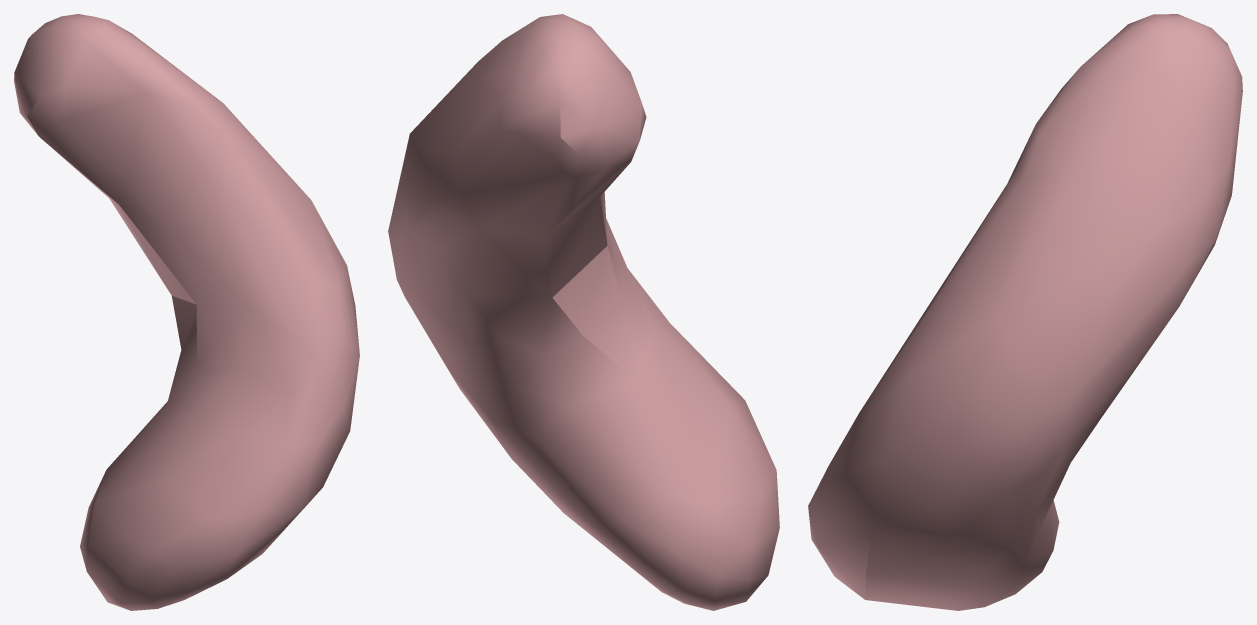
Rendered from fma14966_fj2599.glb.
3 renders of one model, left to right at view 1: azimuth 30°, elevation 25°; view 2: azimuth 150°, elevation 25°; view 3: azimuth 270°, elevation 25°, orthographic. The views are drawn at different scales.
Parts seen in each view (by area): view 1: FMA14966_FJ2599; view 2: FMA14966_FJ2599; view 3: FMA14966_FJ2599.
Boxes of the visible parts, <box> form: FMA14966_FJ2599: <box>14,14,359,610</box>; FMA14966_FJ2599: <box>388,14,779,610</box>; FMA14966_FJ2599: <box>808,14,1242,610</box>.
Bounding box in the file's own units: 0.0285 × 0.0532 × 0.0341.
